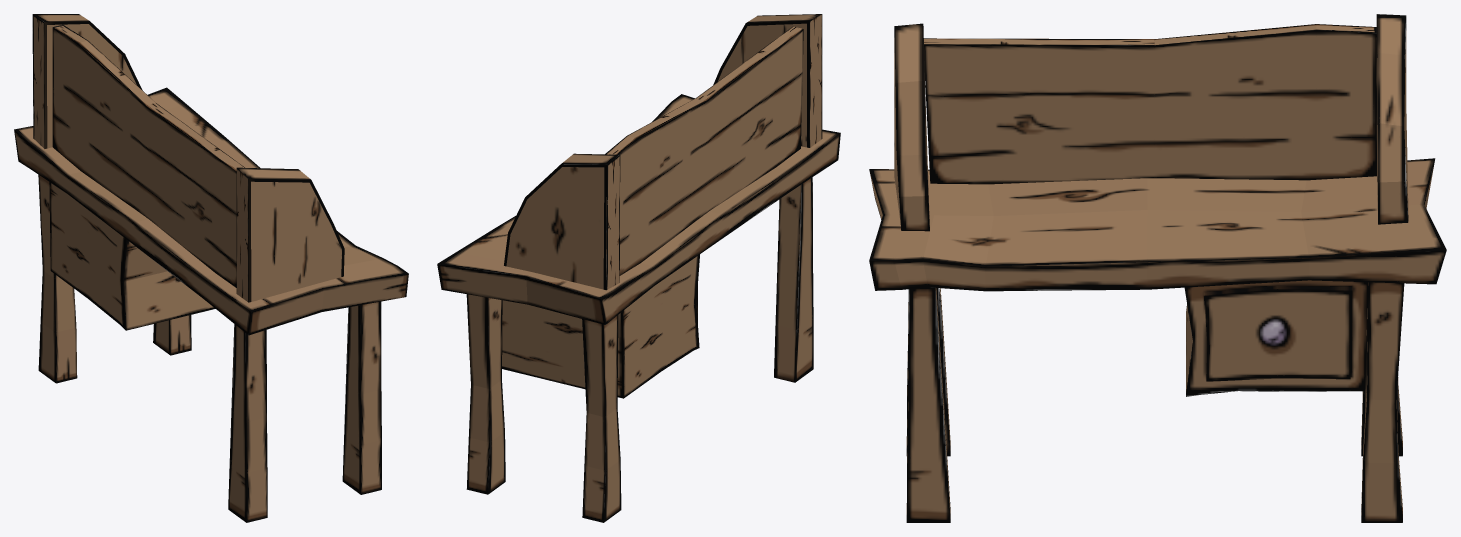
The model's file is biurko1.fbx.
The picture shows the model from 3 angles, left to right: view 1: azimuth 30°, elevation 25°; view 2: azimuth 150°, elevation 25°; view 3: azimuth 270°, elevation 25°; orthographic projection. The views are drawn at different scales.
Visible parts, largest first — view 1: biurko1; view 2: biurko1; view 3: biurko1.
Part boxes in pixels (x1,y1,x2,y2): biurko1: (14, 14, 408, 522); biurko1: (437, 14, 840, 522); biurko1: (869, 14, 1446, 522).
Bounding box in the file's own units: 63.8 × 138 × 170.
Materials: 1 (1 with a texture image).
